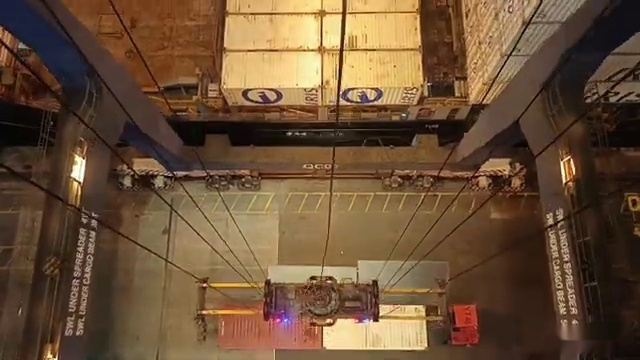container: (208, 298, 436, 357), (222, 51, 424, 108), (208, 1, 436, 42), (209, 0, 433, 35), (220, 13, 423, 51), (218, 7, 427, 43), (225, 0, 422, 6), (216, 0, 428, 4)
guide_mark: (109, 192, 542, 213), (65, 344, 559, 360)
spreader: (192, 270, 458, 329)
target_slot: (192, 270, 458, 331)
